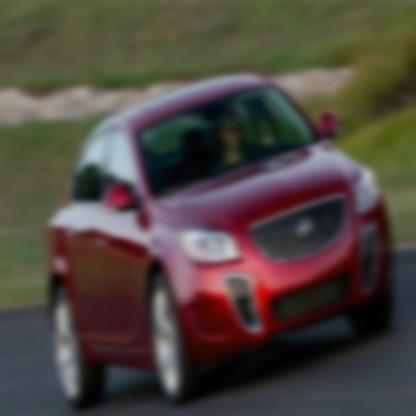Vehicle: (46, 71, 396, 406)
